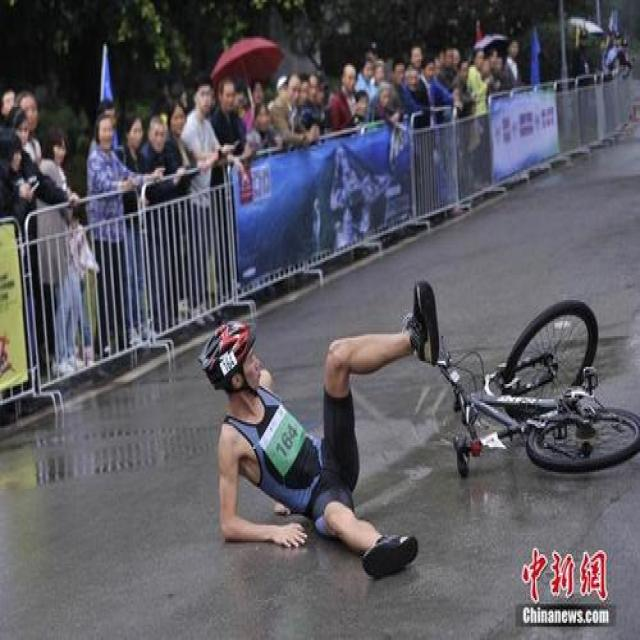10-: (0, 19, 639, 581)
down: (195, 266, 442, 580)
